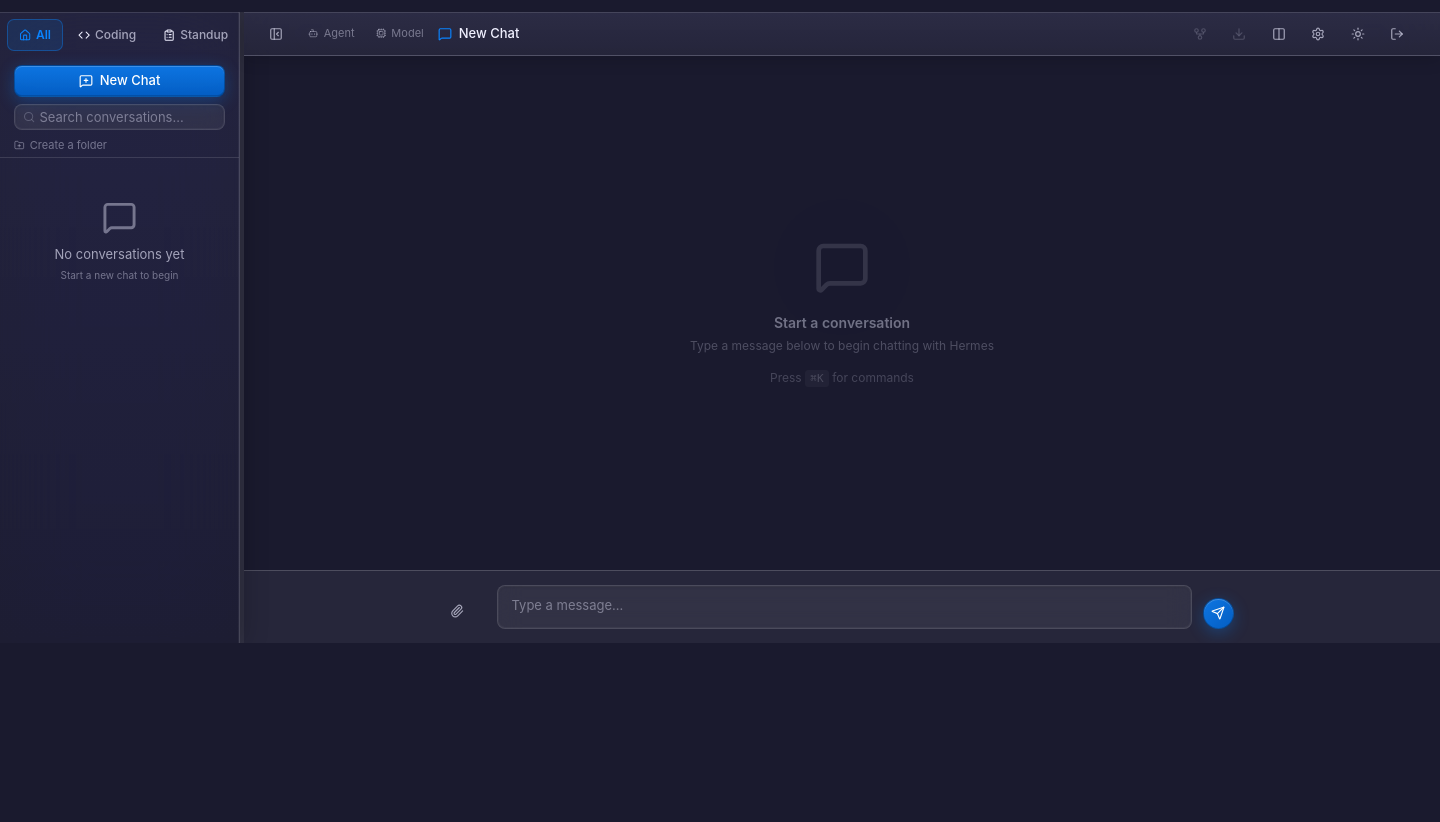
Test: Flow: Chat Lifecycle › stop button appears during streaming
Type "Hi" into the text box with placeholder "Type a message…" at (844, 607), box [496,585,1192,629]
Then press Enter
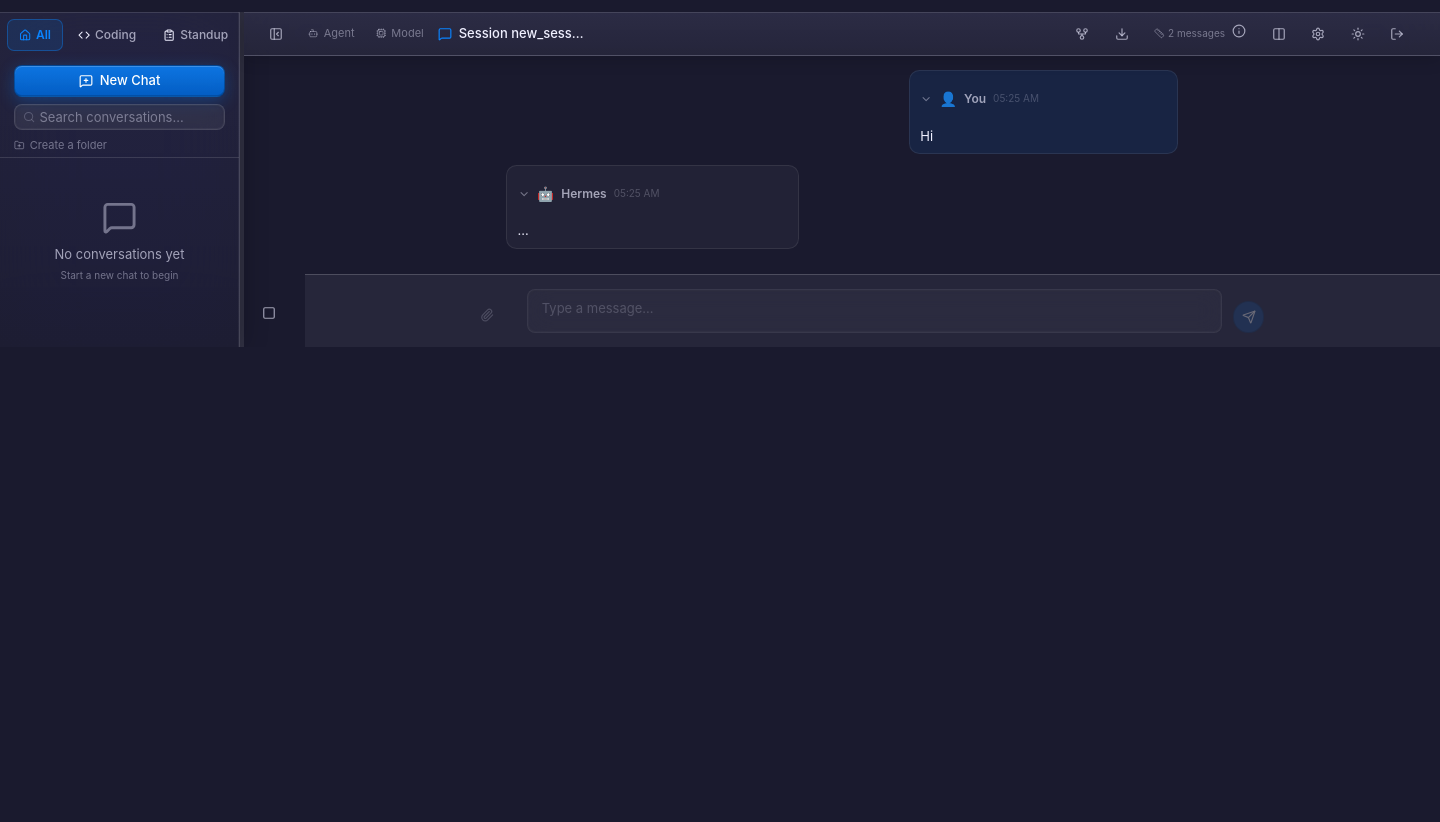
Expected: the button titled "Stop generation" is shown, [262,295,298,331]
